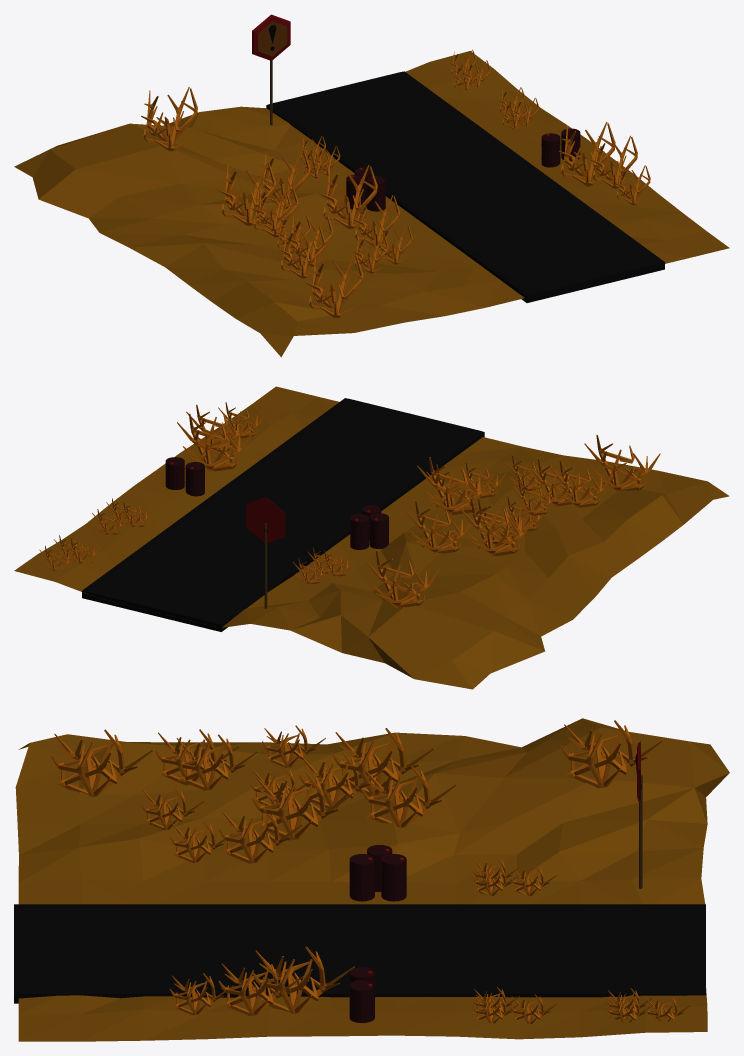
File: san123d.123 (2).fbx
3 views of the same model, one above another, from view 1: azimuth 30°, elevation 25°; view 2: azimuth 150°, elevation 25°; view 3: azimuth 270°, elevation 25° (orthographic). The views are drawn at different scales.
Parts seen in each view (by area): view 1: Plane.001, Cube.026, Cube.013, Cube.010, Cube.023, Cube.020, Cube.001, Cube.006, Cube.009, Cube.021, Cube.024, Cube.012 (+8 smaller); view 2: Plane.001, Cube.026, Cube.013, Cube.001, Cube.020, Cube.023, Cube.010, Cylinder.006, Cube.006, Cube.009, Cube.012, Cube.021 (+8 smaller); view 3: Plane.001, Cube.026, Cube.010, Cube.013, Cube.023, Cube.020, Cube.001, Cube.006, Cube.024, Cube.021, Cube.012, Cube.002 (+13 smaller).
Boxes of the visible parts, x1,y1,x2,y2 form: Plane.001: (14, 51, 729, 357); Cube.026: (266, 71, 664, 302); Cube.013: (141, 87, 197, 151); Cube.010: (306, 253, 363, 317); Cube.023: (321, 165, 377, 228); Cube.020: (558, 122, 615, 186); Cube.001: (219, 161, 275, 225); Cube.006: (258, 149, 310, 208); Cube.009: (279, 225, 325, 278); Cube.021: (591, 135, 637, 188); Cube.024: (353, 195, 399, 247); Cube.012: (286, 213, 333, 266); Plane.001: (14, 386, 729, 689); Cube.026: (82, 398, 484, 631); Cube.013: (364, 550, 439, 608); Cube.001: (458, 498, 534, 556); Cube.020: (177, 413, 252, 471); Cube.023: (417, 457, 492, 514); Cube.010: (584, 435, 660, 492); Cylinder.006: (246, 497, 285, 543); Cube.006: (404, 500, 474, 553); Cube.009: (549, 460, 612, 507); Cube.012: (528, 458, 590, 506); Cube.021: (186, 404, 248, 451); Plane.001: (15, 718, 729, 1041); Cube.026: (14, 904, 705, 1003); Cube.010: (50, 729, 153, 796); Cube.013: (560, 720, 663, 788); Cube.023: (252, 772, 354, 840); Cube.020: (252, 946, 354, 1013); Cube.001: (332, 728, 434, 795); Cube.006: (361, 766, 456, 827); Cube.024: (218, 807, 303, 863); Cube.021: (218, 959, 303, 1016); Cube.012: (173, 734, 258, 790); Cube.002: (298, 753, 383, 808).
Bounding box in the file's own units: 5774 × 1390 × 5631.
